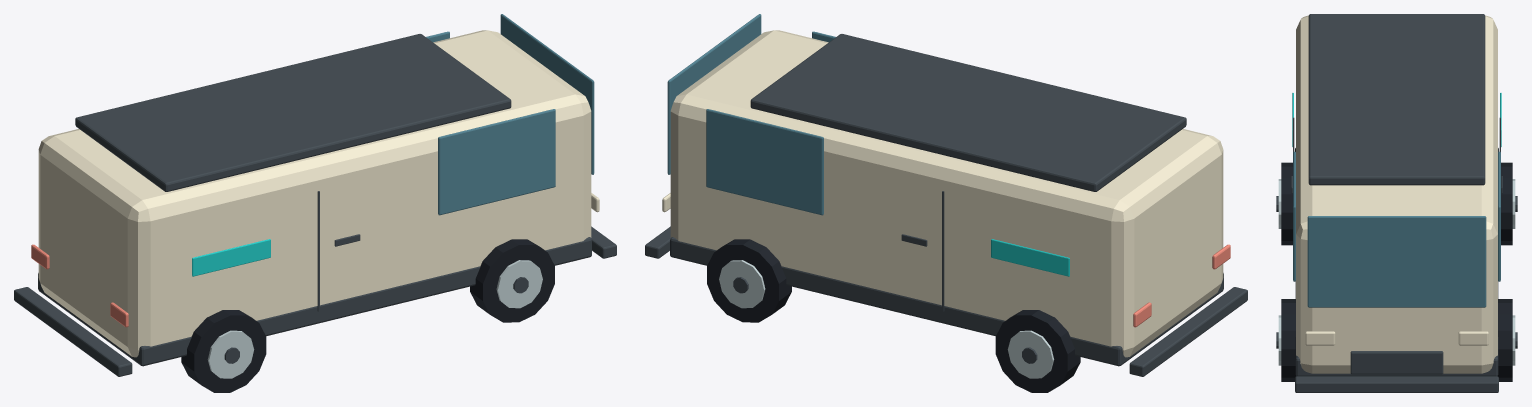
The model's file is Van.fbx.
3 views of the same model, side by side, from view 1: azimuth 30°, elevation 25°; view 2: azimuth 150°, elevation 25°; view 3: azimuth 270°, elevation 25° (orthographic). The views are drawn at different scales.
Parts seen in each view (by area): view 1: Van; view 2: Van; view 3: Van.
Boxes of the visible parts, x1,y1,x2,y2 form: Van: [14, 14, 616, 392]; Van: [645, 14, 1247, 392]; Van: [1276, 14, 1517, 392].
Bounding box in the file's own units: 553 × 223 × 239.
